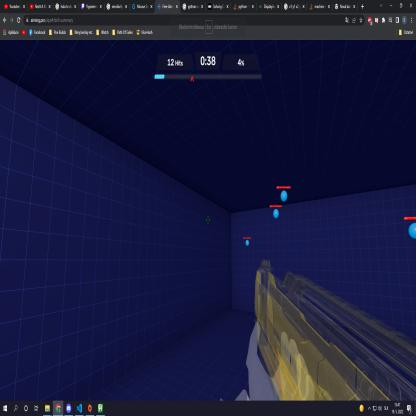sphere: (408, 221, 415, 243), (280, 190, 288, 203), (273, 208, 280, 220), (245, 239, 250, 246)
